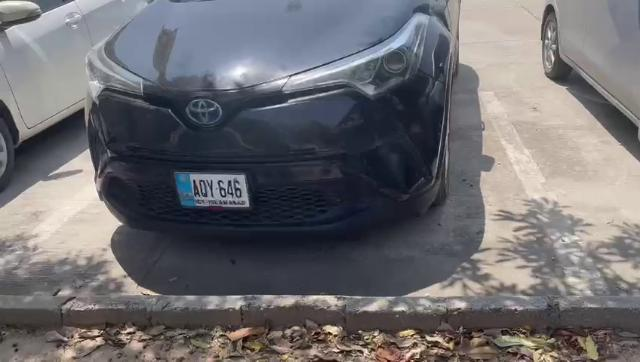plate: (173, 170, 253, 210)
